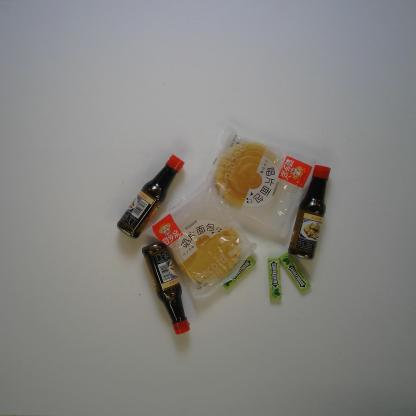Dessert: (141, 177, 259, 301), (204, 126, 317, 241)
Gum: (279, 251, 311, 293), (221, 255, 256, 290), (267, 258, 282, 300)
Seasoner: (116, 154, 186, 240), (142, 241, 191, 335), (288, 164, 331, 262)
